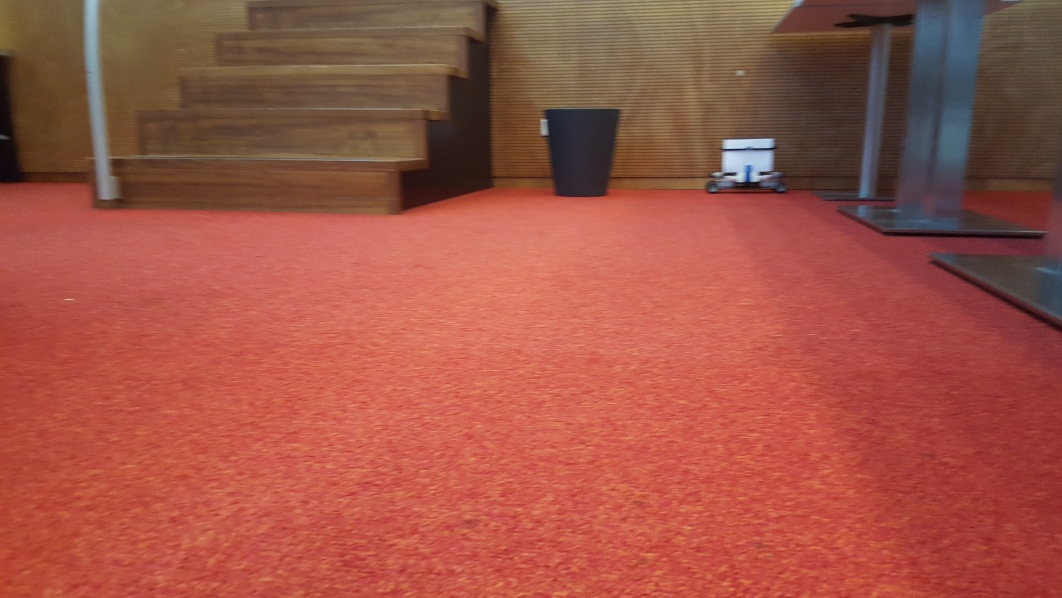car: (702, 136, 791, 197)
